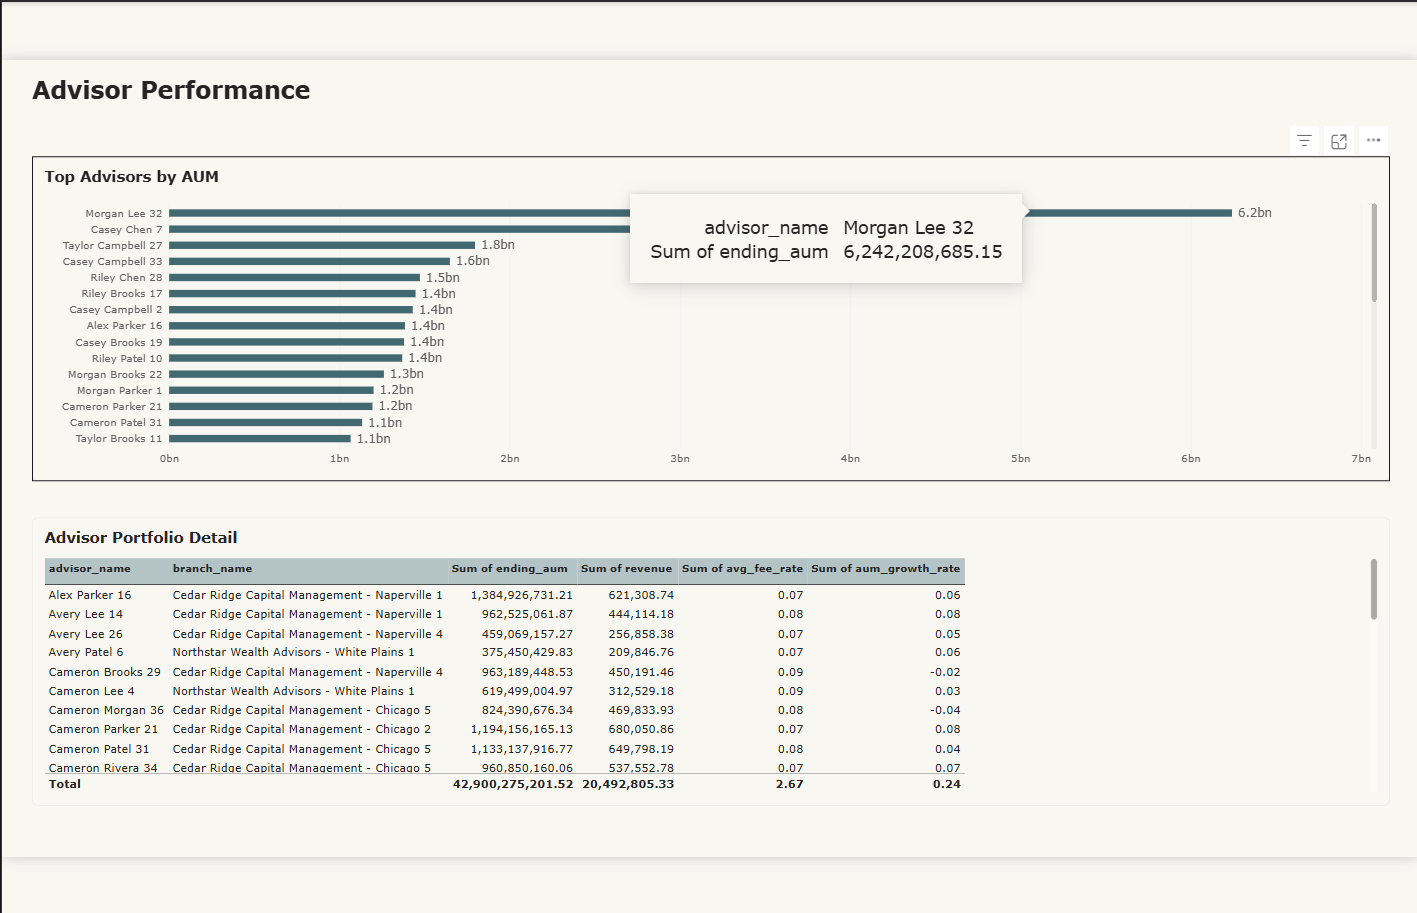

The page's visual inventory and layout, read from the dashboard file:
{"tool":"powerbi","page":{"name":"Advisor Performance","canvas":[1920,1080],"ordinal":1},"visuals":[{"type":"tableEx","title":"Advisor Portfolio Detail","fields":{"Values":["advisor_kpis.advisor_name","advisor_kpis.branch_name","Sum(advisor_kpis.ending_aum)","Sum(advisor_kpis.revenue)","Sum(advisor_kpis.avg_fee_rate)","Sum(advisor_kpis.aum_growth_rate)"]},"box":[40,620,1840,390],"z":0},{"type":"clusteredBarChart","title":"Top Advisors by AUM","fields":{"Category":["advisor_kpis.advisor_name"],"Y":["Sum(advisor_kpis.ending_aum)"]},"box":[40,130,1840,440],"z":1},{"type":"textbox","box":[40,20,1200,100],"z":3}]}

Visuals, with their boxes on the page's 1920x1080 design canvas (x1, y1, x2, y2). These are canvas units, not pixel positions in the 1417x913 screenshot, which may show the page scaled, cropped or inside an application window:
"Advisor Portfolio Detail" tableEx: BBox(40, 620, 1880, 1010)
"Top Advisors by AUM" clusteredBarChart: BBox(40, 130, 1880, 570)
textbox: BBox(40, 20, 1240, 120)
